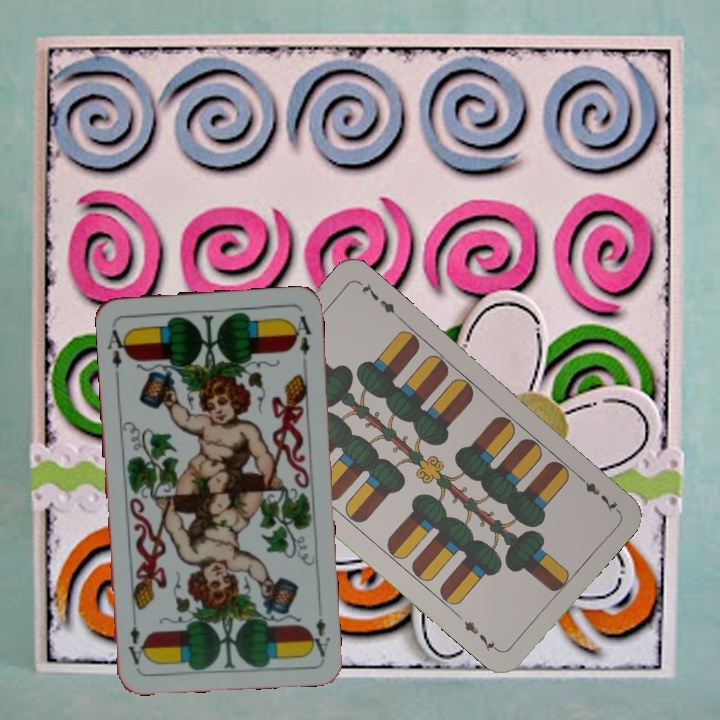E7: (572, 469, 620, 515)
EA: (305, 614, 333, 659), (104, 326, 131, 371)
